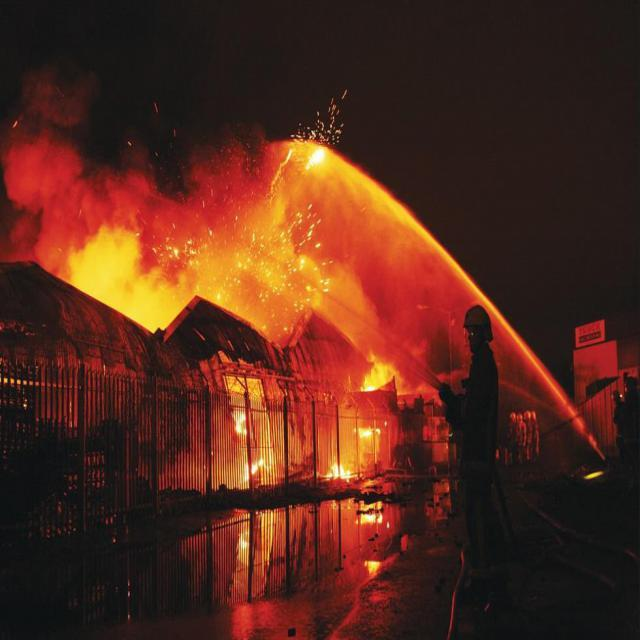Fire: (76, 199, 433, 537)
